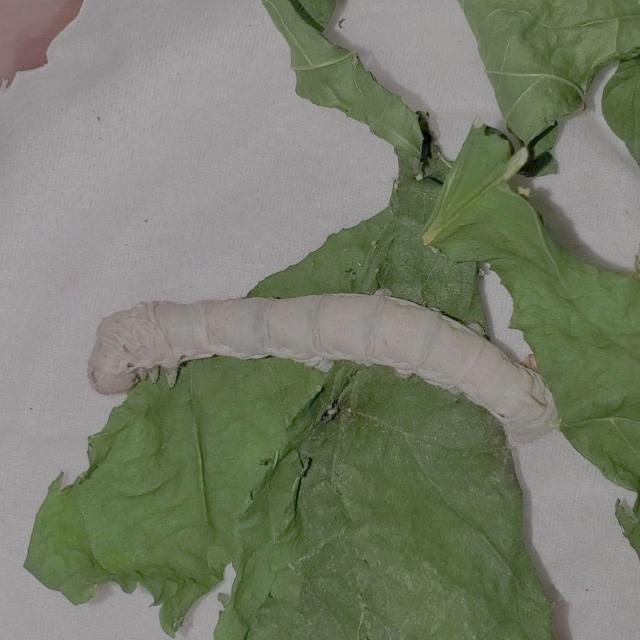Healthy: (65, 271, 585, 468)
